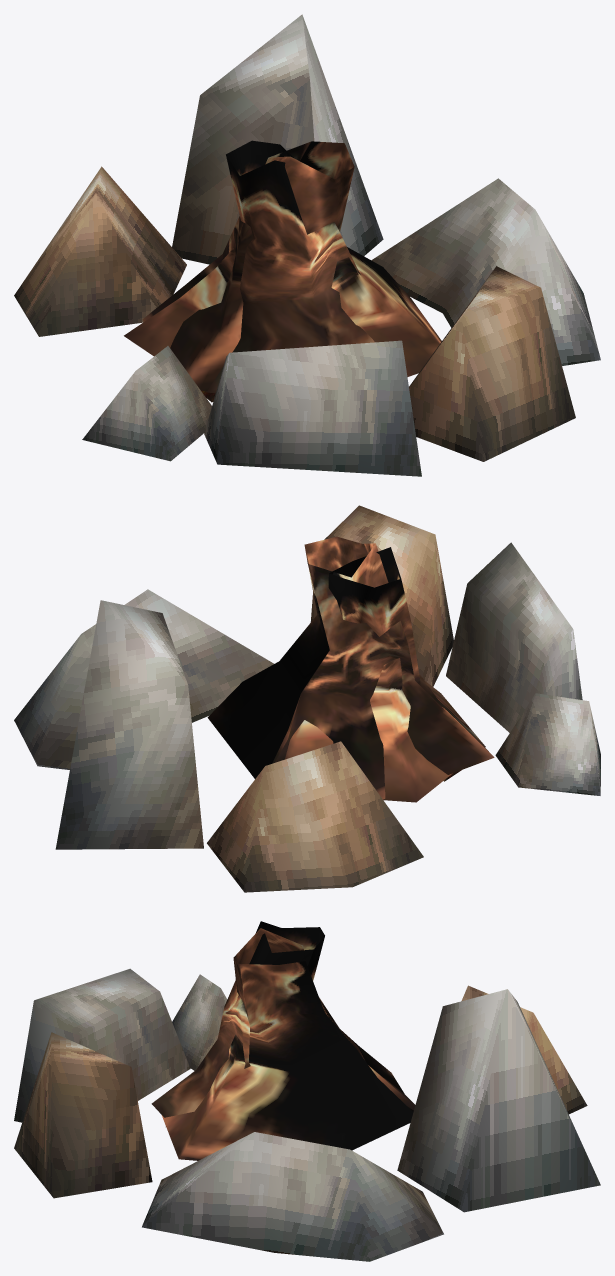
The model's file is northrendelwynncampfire.obj.
3 views of the same model, one above another, from view 1: azimuth 30°, elevation 25°; view 2: azimuth 150°, elevation 25°; view 3: azimuth 270°, elevation 25° (orthographic). The views are drawn at different scales.
Parts seen in each view (by area): view 1: Geoset0, Geoset2; view 2: Geoset0, Geoset2; view 3: Geoset0, Geoset2.
Boxes of the visible parts, x1=… form: Geoset0: x1=14, y1=14, x2=600, y2=476; Geoset2: x1=124, y1=140, x2=441, y2=393; Geoset0: x1=14, y1=505, x2=600, y2=892; Geoset2: x1=207, y1=536, x2=494, y2=802; Geoset0: x1=14, y1=968, x2=600, y2=1261; Geoset2: x1=151, y1=921, x2=415, y2=1160.
Size of the model in its own units: 2.03 by 0.8109 by 2.14.
3 materials, 3 textured.
